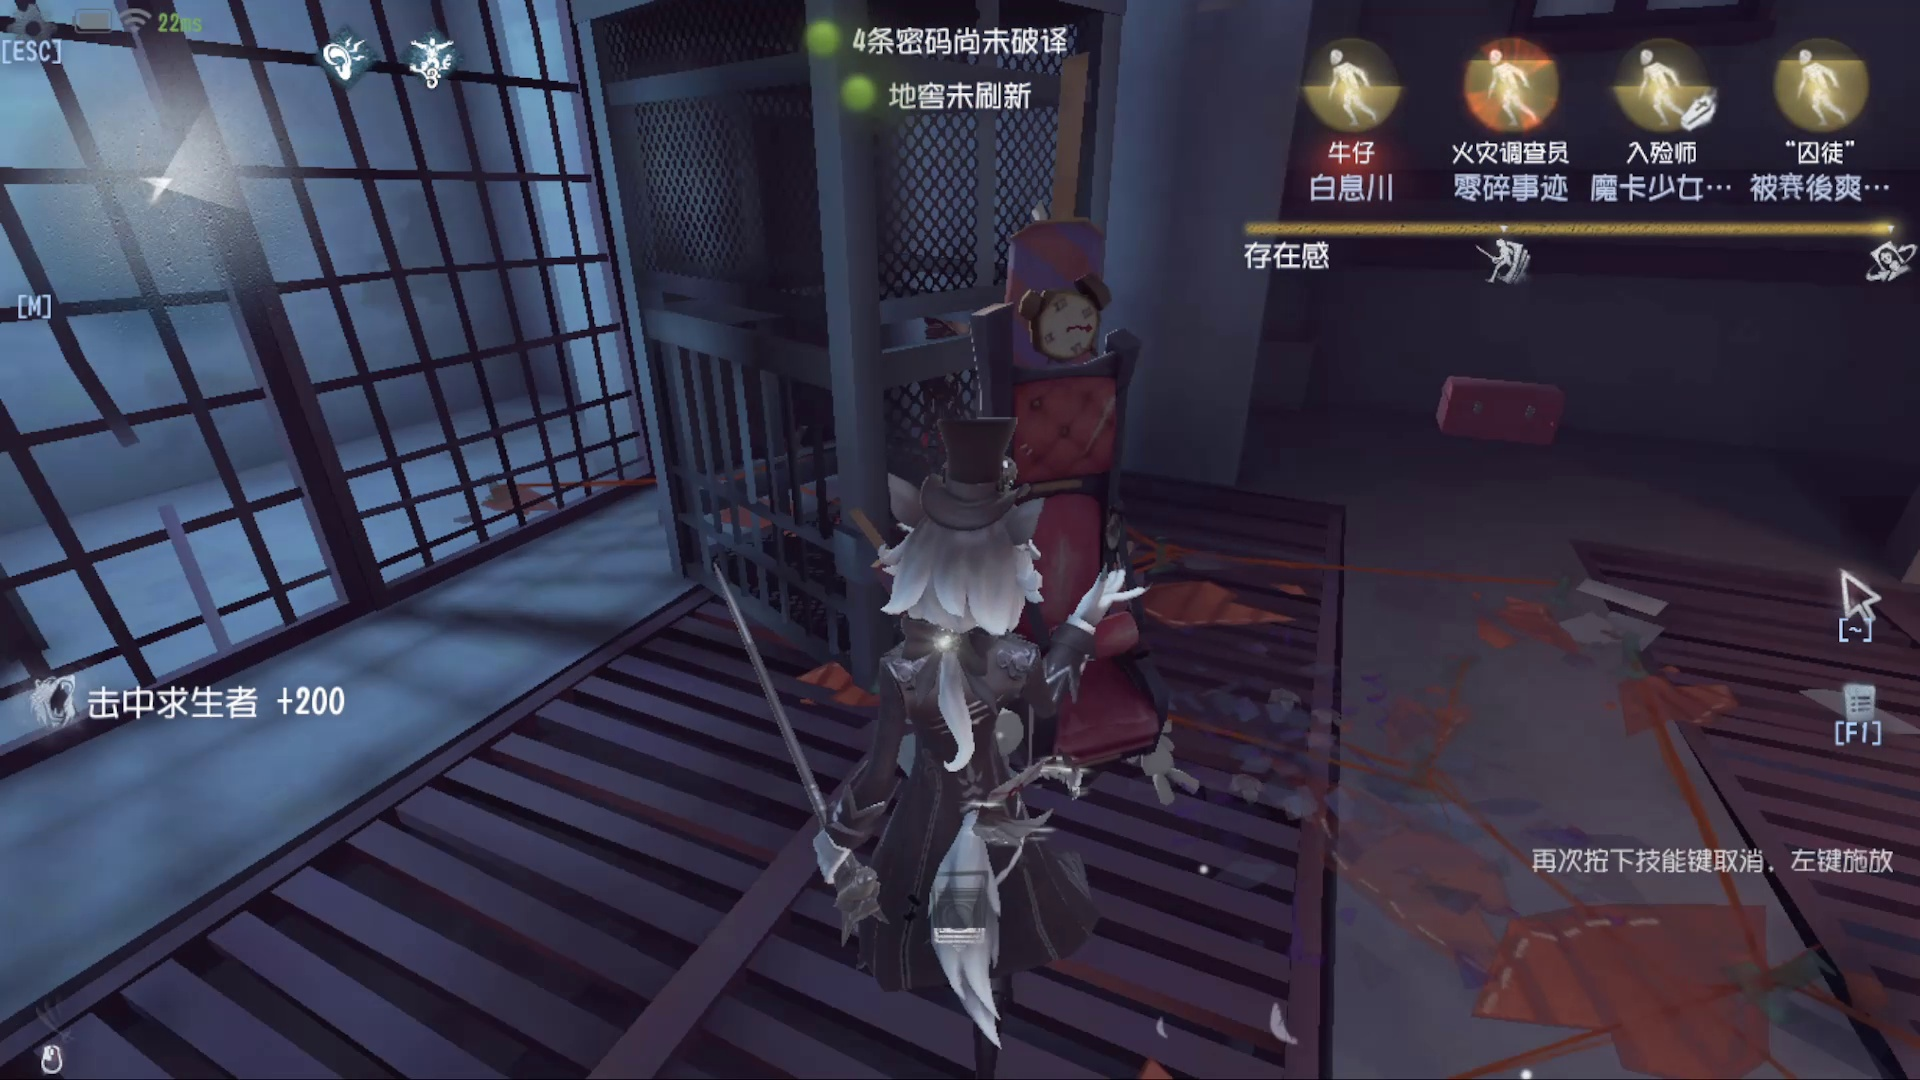狂欢之椅: (945, 219, 1197, 771)
脚印: (1207, 488, 1704, 1040)
